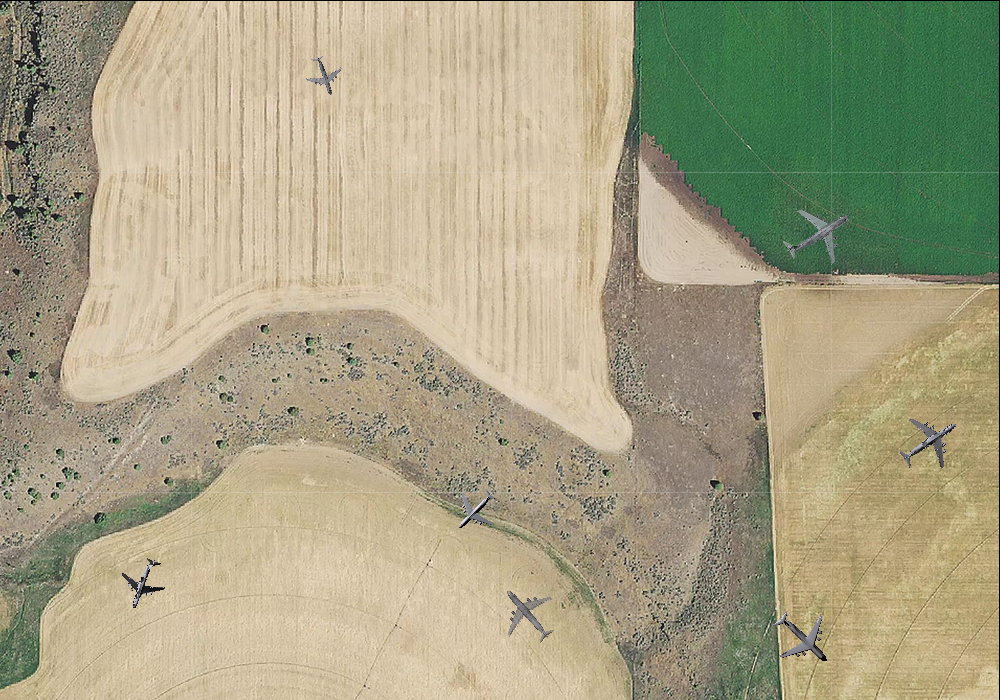plane: (769, 184, 867, 282), (758, 594, 847, 684), (886, 399, 973, 485), (485, 572, 570, 657), (443, 478, 508, 543), (111, 551, 175, 617), (298, 49, 348, 101)
